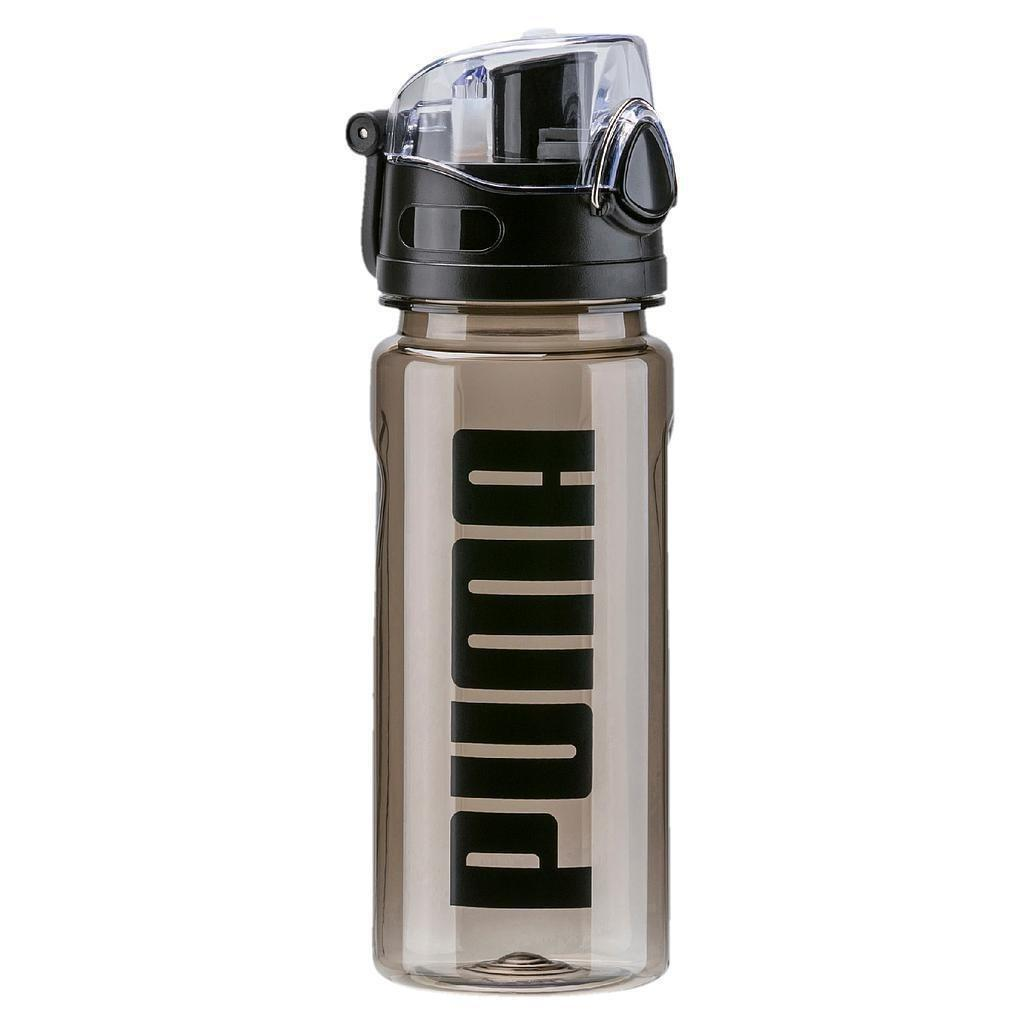gym bottle: (347, 25, 684, 1008)
